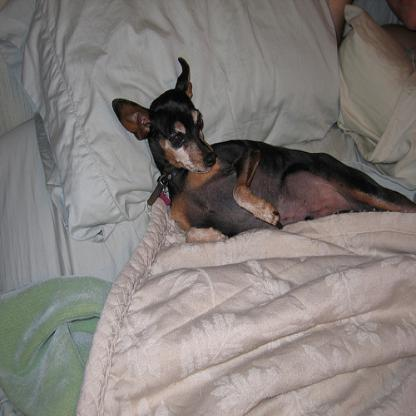dog: (112, 56, 415, 244)
